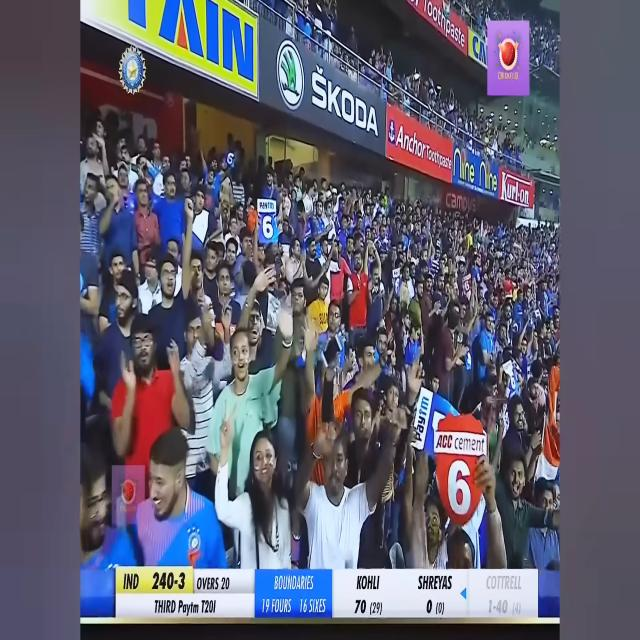fully_visible: (257, 196, 275, 216)
partially_visible: (415, 386, 430, 448)
